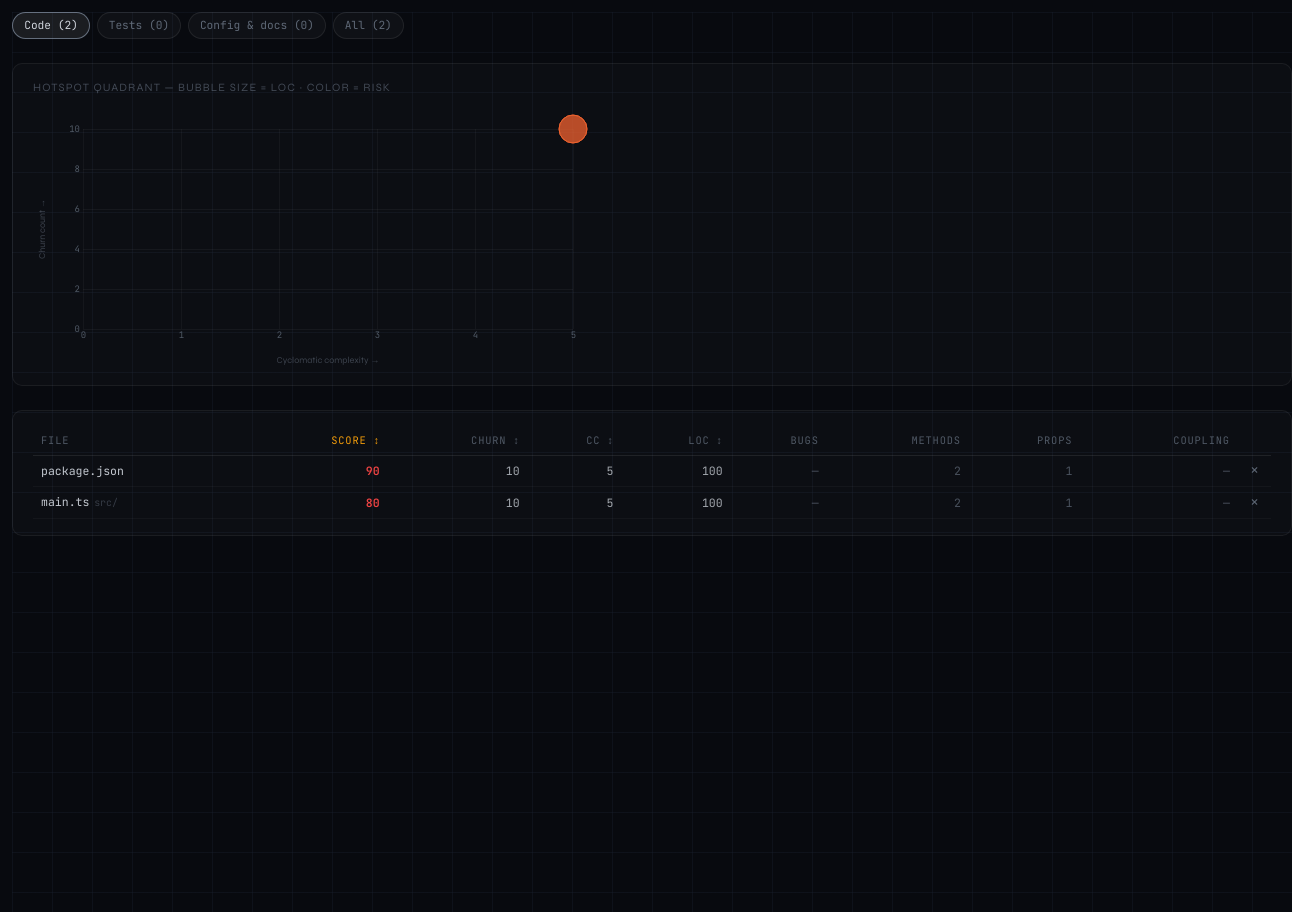
Scenario: HotspotsView dismiss › restores dismissed files when "Reset dismissed" is clicked
Click the button named "dismiss" at (1254, 470), box [1246,462,1263,478]
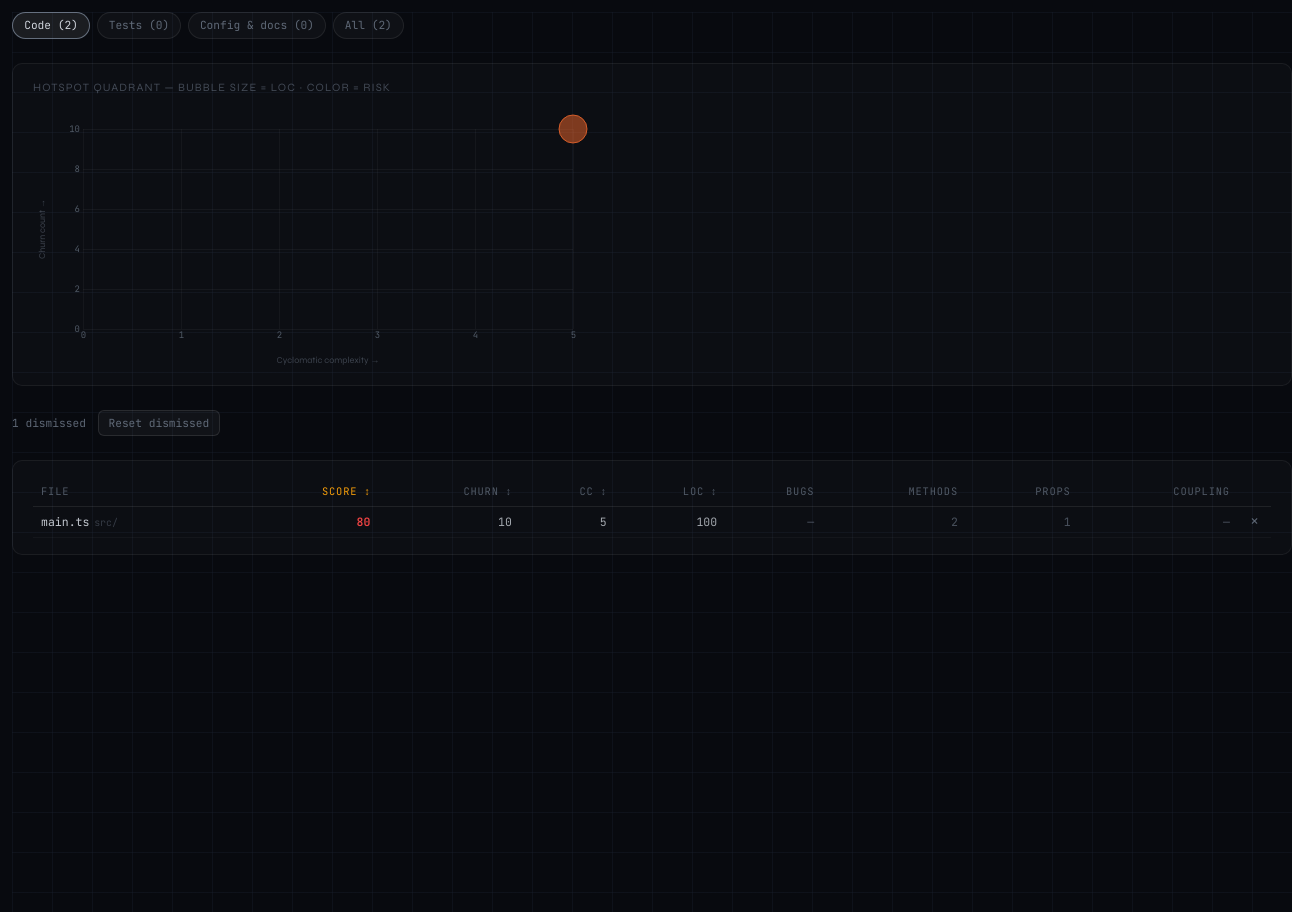
Check: the text titled "package.json" is gone
Click the button "Reset dismissed" at (159, 423), box [98,410,220,436]
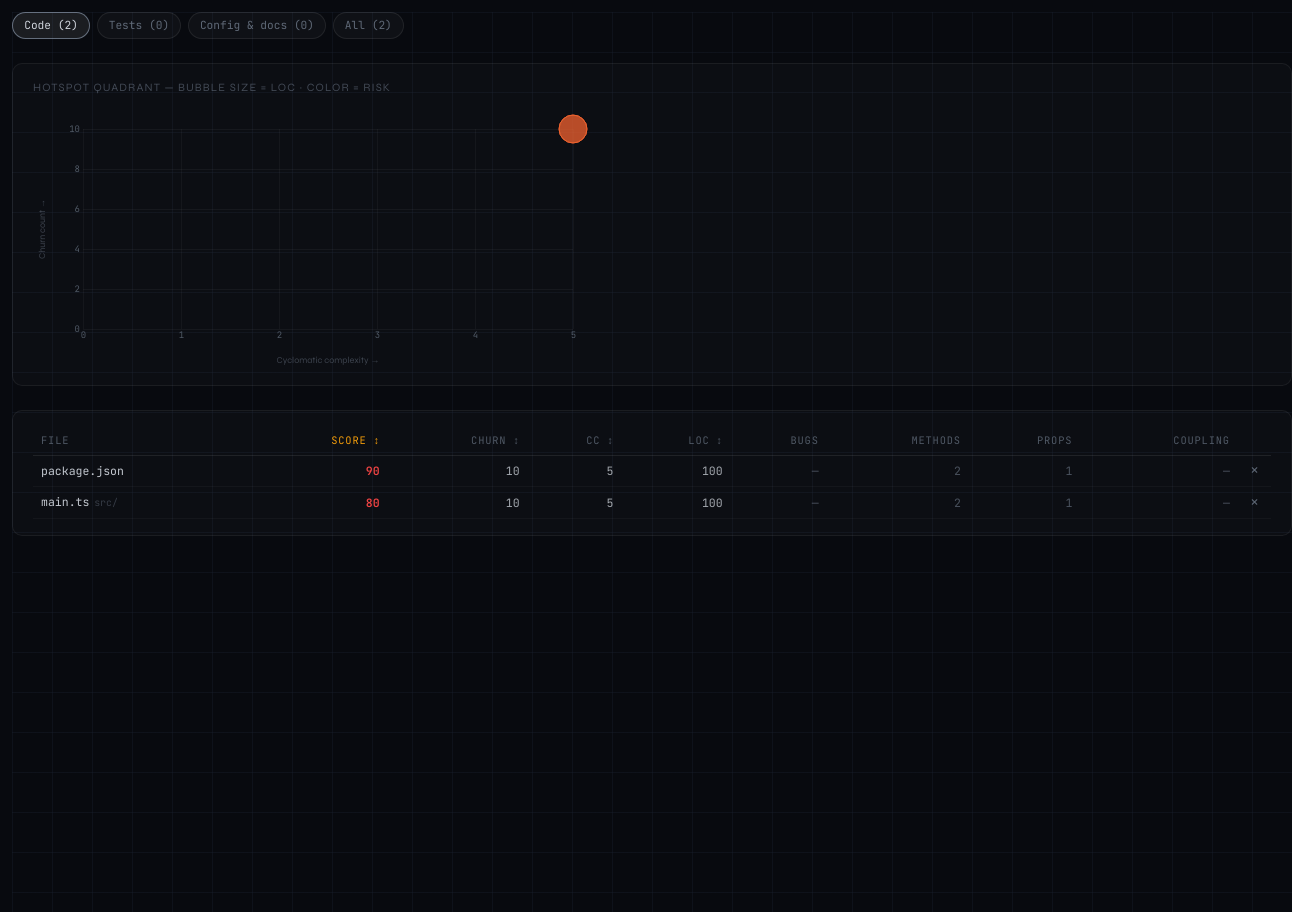
Check: the cell titled "package.json" is shown, box [33,456,248,486]
